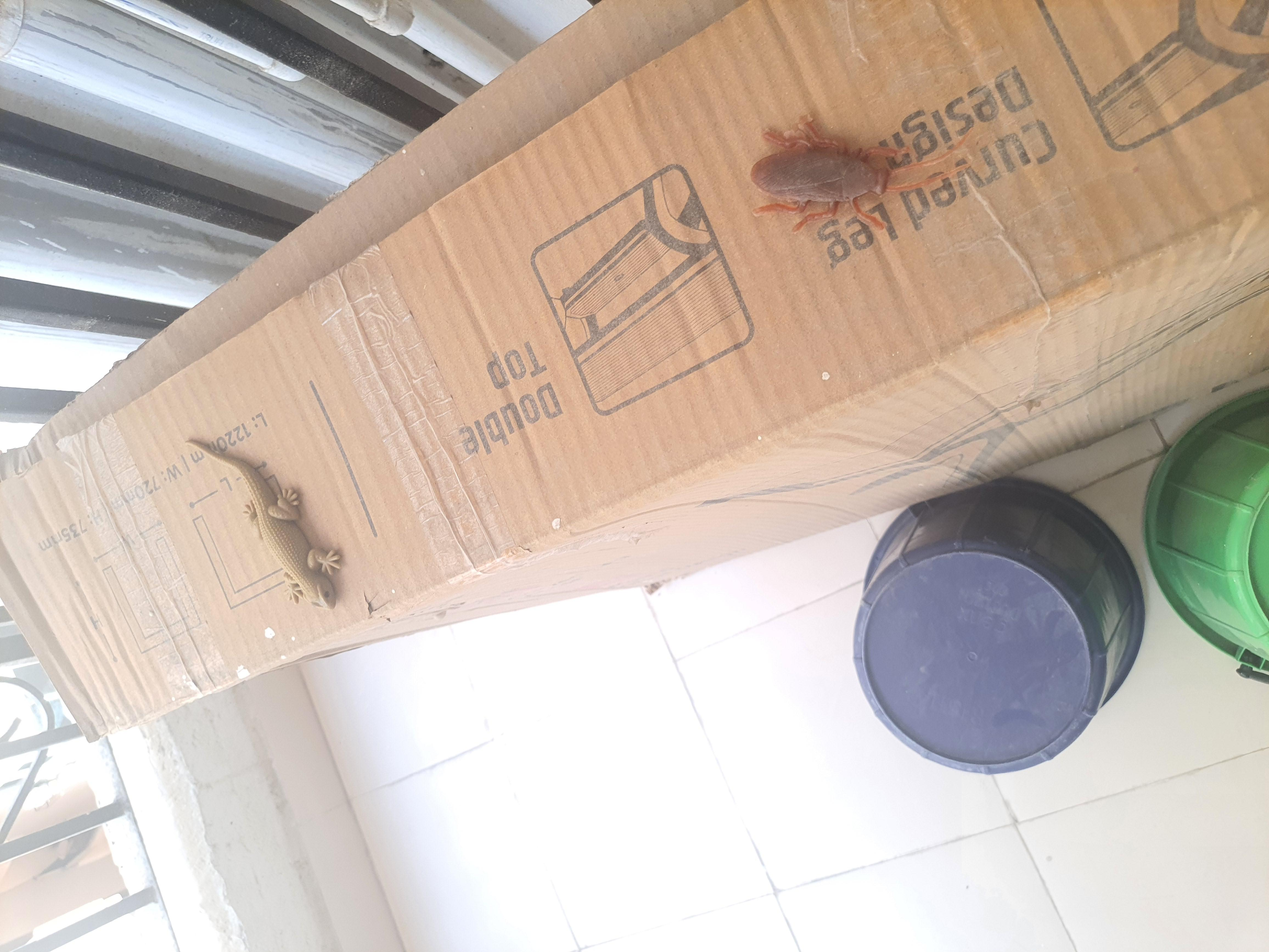cockroach: (932, 556, 1118, 750)
lizard: (433, 137, 706, 264)
